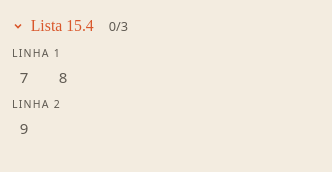
it: cada assunto abre e fecha pela setinha, com as linhas 1 e 2 dentro dele
Click the button "Lista 15.4".
click(53, 26)  # box [12,12,94,40]
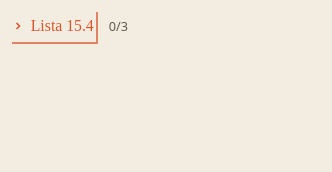
expect the text "0/3" is shown: met, box [109,16,128,36]
expect the text "Linha 2" is gone: met
